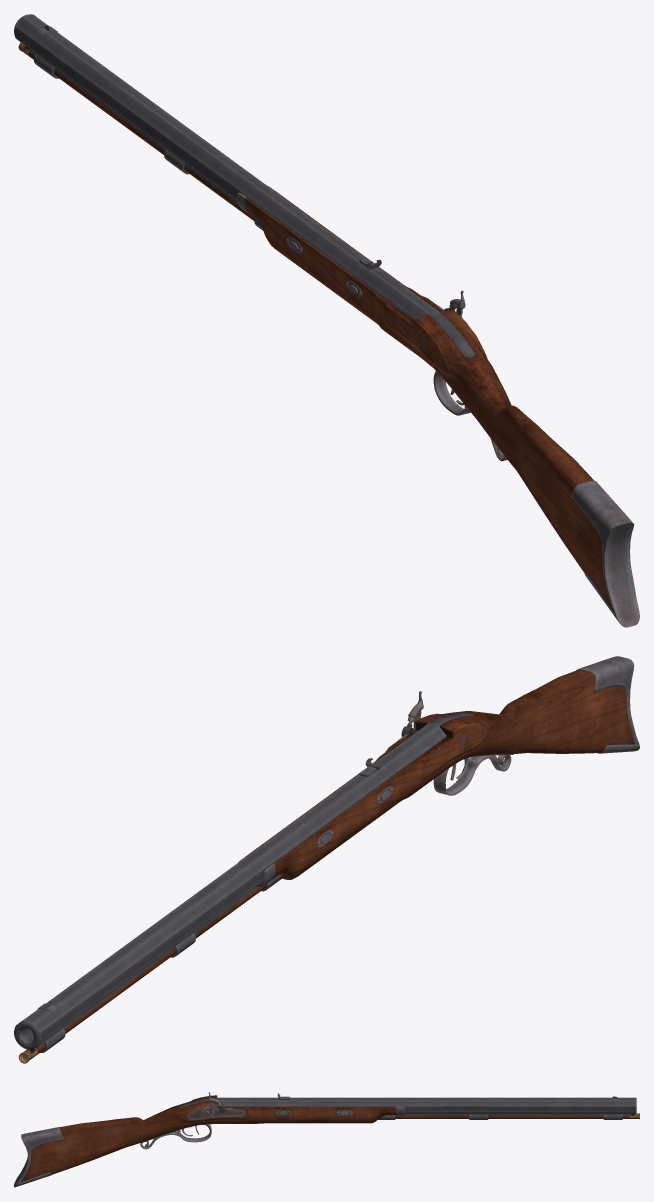
File: PlainsRifle.fbx
3 renders of one model, top to bottom at view 1: azimuth 30°, elevation 25°; view 2: azimuth 150°, elevation 25°; view 3: azimuth 270°, elevation 25°, orthographic. The views are drawn at different scales.
Parts seen in each view (by area): view 1: PlainsRifle_Frame, PlainsRifle_RammindRod; view 2: PlainsRifle_Frame, PlainsRifle_RammindRod; view 3: PlainsRifle_Frame, PlainsRifle_RammindRod, PlainsRifle_Hammer.
Part boxes in pixels (box(x1,y1,x2,y2)): PlainsRifle_Frame: box(14, 14, 639, 627); PlainsRifle_RammindRod: box(18, 42, 254, 220); PlainsRifle_Frame: box(14, 656, 639, 1052); PlainsRifle_RammindRod: box(18, 884, 265, 1063); PlainsRifle_Frame: box(14, 1093, 636, 1187); PlainsRifle_RammindRod: box(395, 1113, 639, 1119); PlainsRifle_Hammer: box(201, 1092, 220, 1118).
Size of the model in its own units: 6.38 by 26.08 by 149.
